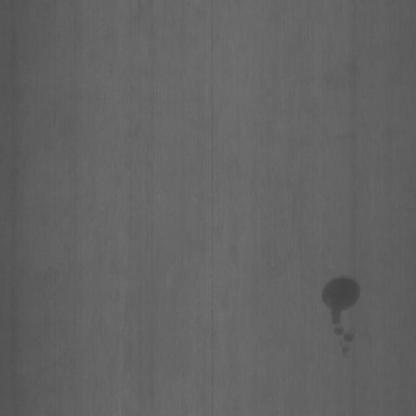oil_spot: (315, 264, 370, 357)
